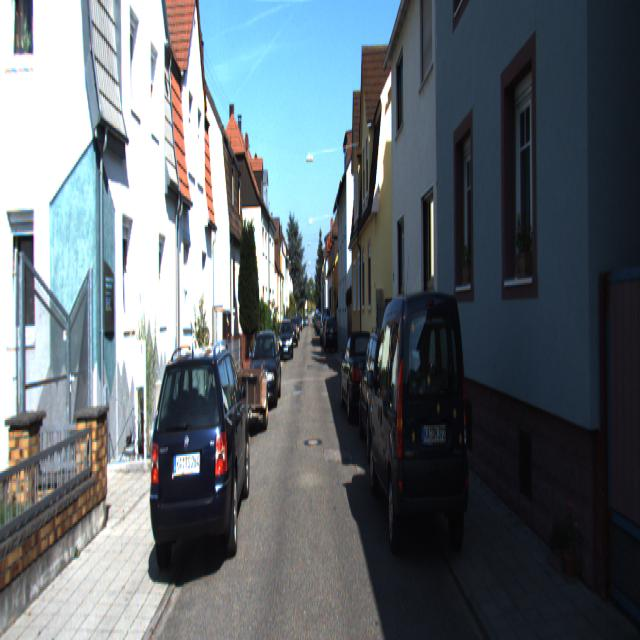Car: (368, 286, 473, 578), (148, 336, 252, 602), (357, 316, 418, 468), (339, 323, 384, 428), (247, 327, 280, 414), (233, 358, 269, 436), (279, 318, 293, 359), (324, 306, 338, 346)
